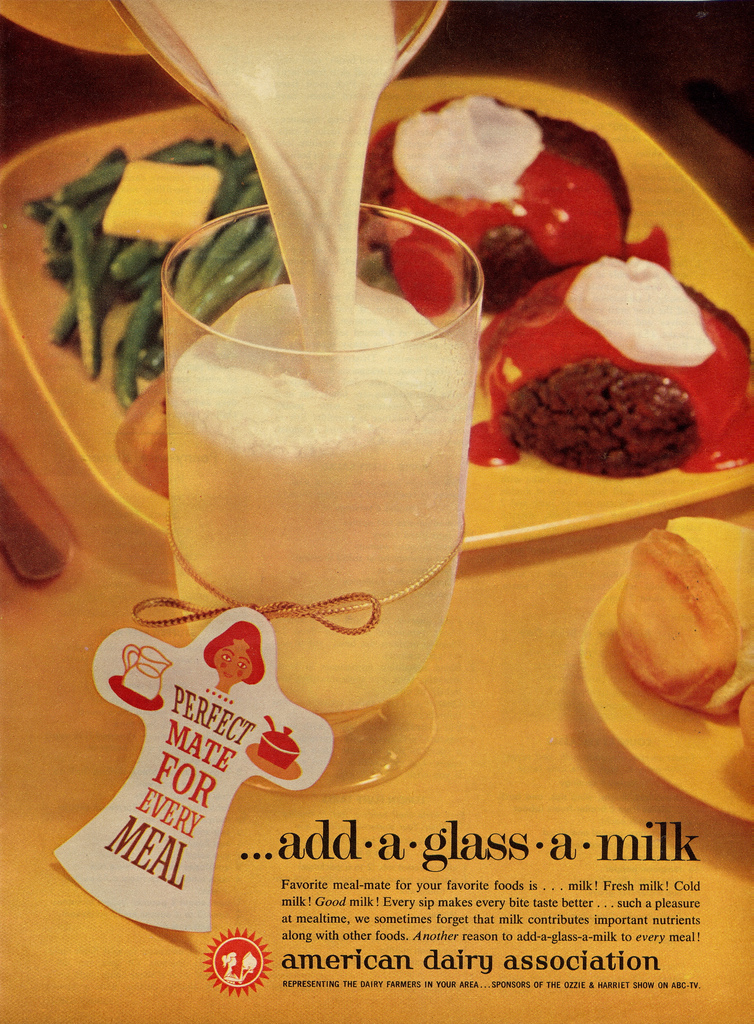glass of milk: (167, 257, 452, 789)
